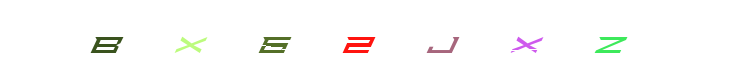2: (333, 0, 413, 80)
6: (318, 0, 398, 80)
B: (150, 0, 230, 80)
J: (367, 0, 447, 80)
X: (203, 0, 283, 80), (487, 0, 567, 80)
Z: (571, 0, 651, 80)
